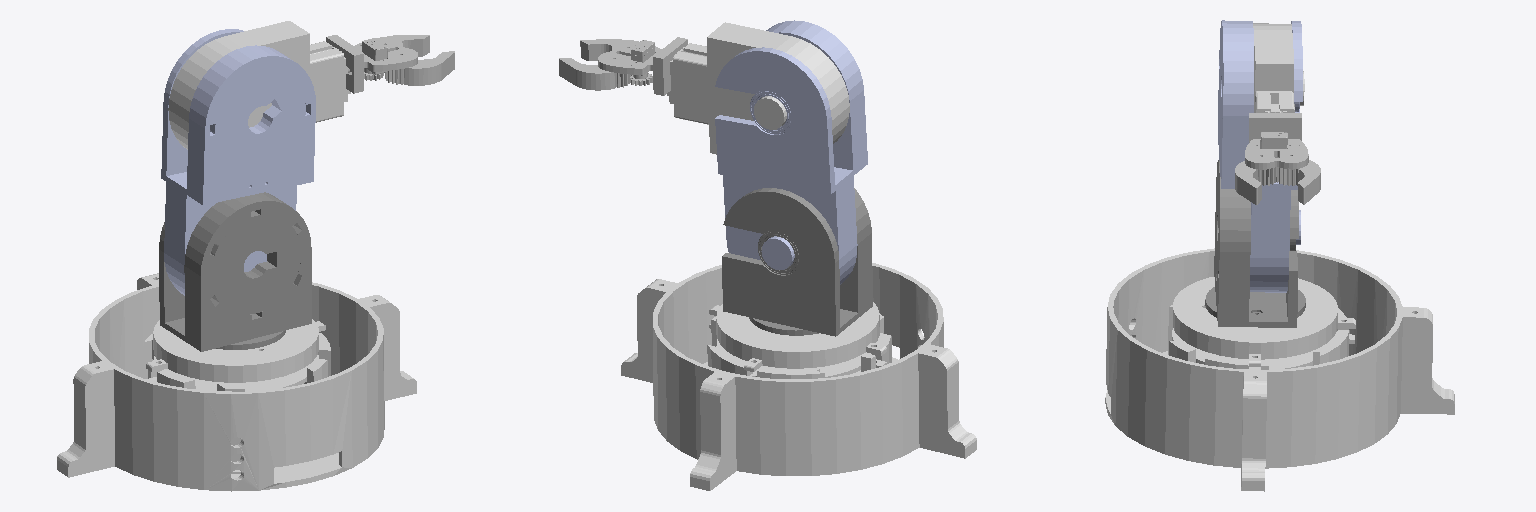
robot.urdf — robot2:
<?xml version='1.0' encoding='utf-8'?>
<robot name="robot2">
  <link name="base_link">
    <inertial>
      <origin xyz="-0.0322183375016077 -0.98862531183593 0.0594360583194767" rpy="0 0 0" />
      <mass value="1.07274260062099" />
      <inertia ixx="0.00553256488180712" ixy="3.83547631528998E-05" ixz="8.25731536531113E-06" iyy="0.0068990560243015" iyz="4.5707460594202E-05" izz="0.0111026624784099" />
    </inertial>
    <visual>
      <origin xyz="0 0 0" rpy="0 0 0" />
      <geometry>
        <mesh filename="package://robot2/meshes/base_link.STL" />
      </geometry>
      <material name="">
        <color rgba="0.894117647058823 0.894117647058823 0.894117647058823 1" />
      </material>
    </visual>
    <collision name="base_collision_prueba">
      <origin xyz="-0.032 -0.980 0.060" rpy="0 0 0" />
      <geometry>
        <box size="0.08 0.08 0.04" />
      </geometry>
    </collision>
  </link>
  <link name="1_Link">
    <inertial>
      <origin xyz="-0.000667281126849557 -0.00719445025829268 0.0591226768658543" rpy="0 0 0" />
      <mass value="0.387314744620051" />
      <inertia ixx="0.000601133228403725" ixy="3.63272048995032E-06" ixz="7.54613931793443E-06" iyy="0.000802719870296399" iyz="-1.56731747393298E-05" izz="0.000526878986685913" />
    </inertial>
    <visual>
      <origin xyz="0 0 0" rpy="0 0 0" />
      <geometry>
        <mesh filename="package://robot2/meshes/1_Link.STL" />
      </geometry>
      <material name="">
        <color rgba="0.627450980392157 0.627450980392157 0.627450980392157 1" />
      </material>
    </visual>
    <collision name="link1_collision_prueba">
      <origin xyz="0 0 0.045" rpy="0 0 0" />
      <geometry>
        <box size="0.035 0.035 0.035" />
      </geometry>
    </collision>
  </link>
  <joint name="joint_1" type="revolute">
    <origin xyz="-0.0327037847686663 -0.997528688156305 0.103606170155612" rpy="-0.0206714410130467 0.00207951340246256 -0.0021609795475576" />
    <parent link="base_link" />
    <child link="1_Link" />
    <axis xyz="0 0 1" />
    <limit lower="-3.141592653589793" upper="3.141592653589793" effort="10.0" velocity="1.0" />
  </joint>
  <link name="2_Link">
    <inertial>
      <origin xyz="0.0745958066334341 0.0133639832618666 0.00318731617443128" rpy="0 0 0" />
      <mass value="0.584726831024462" />
      <inertia ixx="0.000786949906093475" ixy="1.27945787781936E-05" ixz="1.89713370530281E-06" iyy="0.00135753815336034" iyz="3.25256866578678E-06" izz="0.000908285797238898" />
    </inertial>
    <visual>
      <origin xyz="0 0 0" rpy="0 0 0" />
      <geometry>
        <mesh filename="package://robot2/meshes/2_Link.STL" />
      </geometry>
      <material name="">
        <color rgba="0.792156862745098 0.819607843137255 0.933333333333333 1" />
      </material>
    </visual>
    <collision name="link2_collision_prueba">
      <origin xyz="0.065 0.013 0.004" rpy="0 0 0" />
      <geometry>
        <box size="0.04 0.03 0.03" />
      </geometry>
    </collision>
  </link>
  <joint name="joint_2" type="revolute">
    <origin xyz="-0.000493066921437857 0.0156172178250403 0.0824999999999999" rpy="-1.46838853558716 -1.55002056607282 -1.67106463249753" />
    <parent link="1_Link" />
    <child link="2_Link" />
    <axis xyz="0.0205940083975399 0.999354388128605 0.0294396628075614" />
    <limit lower="-1.5707963267948966" upper="1.5707963267948966" effort="10.0" velocity="1.0" />
  </joint>
  <link name="3_Link">
    <inertial>
      <origin xyz="-0.00271912038517219 0.000532961507388852 -0.0312511977067437" rpy="0 0 0" />
      <mass value="0.31315904158181" />
      <inertia ixx="0.000734592294620399" ixy="5.75038039014249E-06" ixz="-1.07783585495597E-05" iyy="0.000474844045702747" iyz="5.1034842522546E-06" izz="0.000320743352058617" />
    </inertial>
    <visual>
      <origin xyz="0 0 0" rpy="0 0 0" />
      <geometry>
        <mesh filename="package://robot2/meshes/3_Link.STL" />
      </geometry>
      <material name="">
        <color rgba="0.894117647058823 0.894117647058823 0.894117647058823 1" />
      </material>
    </visual>
    <collision name="link3_collision_prueba">
      <origin xyz="-0.002 0 -0.030" rpy="0 0 0" />
      <geometry>
        <box size="0.025 0.035 0.040" />
      </geometry>
    </collision>
  </link>
  <joint name="joint_3" type="revolute">
    <origin xyz="0.132335357923373 -0.00290180990379141 0.00593148738303115" rpy="3.14159265358979 0 -1.57079632679489" />
    <parent link="2_Link" />
    <child link="3_Link" />
    <axis xyz="0.999354388128605 0.0205940083975427 0.0294396628075617" />
    <limit lower="-3.2288591161895095" upper="0.20" effort="10.0" velocity="1.0" />
  </joint>
  <link name="4_Link">
    <inertial>
      <origin xyz="0.00421078509333189 -0.00283133522060974 -0.0343272190577135" rpy="0 0 0" />
      <mass value="0.0680040126050669" />
      <inertia ixx="2.80542295336991E-05" ixy="5.12165349349663E-08" ixz="3.09824065869143E-07" iyy="2.21722694184254E-05" iyz="-3.23876834985772E-07" izz="1.06794281188431E-05" />
    </inertial>
    <visual>
      <origin xyz="0 0 0" rpy="0 0 0" />
      <geometry>
        <mesh filename="package://robot2/meshes/4_Link.STL" />
      </geometry>
      <material name="">
        <color rgba="0.8 0.8 0.8 1" />
      </material>
    </visual>
    <collision name="link4_collision_prueba">
      <origin xyz="0 -0.004 -0.040" rpy="0 0 0" />
      <geometry>
        <box size="0.020 0.025 0.030" />
      </geometry>
    </collision>
  </link>
  <joint name="joint_4" type="revolute">
    <origin xyz="-0.0048443 -0.0068958 -0.11533" rpy="0 0 1.5708" />
    <parent link="3_Link" />
    <child link="4_Link" />
    <axis xyz="0 0 1" />
    <limit lower="-2.6179938779914944" upper="1.5707963267948966" effort="10.0" velocity="1.0" />
  </joint>
  <link name="world" />
  <joint name="world_to_base" type="fixed">
    <parent link="world" />
    <child link="base_link" />
    <origin xyz="0 0 0" rpy="0 0 0" />
  </joint>
  <ros2_control name="GazeboSimSystem" type="system">
    <hardware>
      <plugin>gz_ros2_control/GazeboSimSystem</plugin>
    </hardware>
    <joint name="joint_1">
      <command_interface name="position" />
      <state_interface name="position">
        <param name="initial_value">0</param>
      </state_interface>
      <state_interface name="velocity" />
    </joint>
    <joint name="joint_2">
      <command_interface name="position" />
      <state_interface name="position">
        <param name="initial_value">0</param>
      </state_interface>
      <state_interface name="velocity" />
    </joint>
    <joint name="joint_3">
      <command_interface name="position" />
      <state_interface name="position">
        <param name="initial_value">-3.141592653589793</param>
      </state_interface>
      <state_interface name="velocity" />
    </joint>
    <joint name="joint_4">
      <command_interface name="position" />
      <state_interface name="position">
        <param name="initial_value">0</param>
      </state_interface>
      <state_interface name="velocity" />
    </joint>
  </ros2_control>
  <gazebo>
    <plugin filename="gz_ros2_control-system" name="gz_ros2_control::GazeboSimROS2ControlPlugin">
      <parameters>/home/jandr/robot2_ws/install/robot2/share/robot2/config/controllers.yaml</parameters>
    </plugin>
  </gazebo>
</robot>

--- Facts derived from the render (not from the file) ---
3 views of the same robot in one strip: view 1: azimuth 30°, elevation 25°; view 2: azimuth 150°, elevation 25°; view 3: azimuth 270°, elevation 25° (orthographic).
Model robot2 with 6 links and 5 joints (4 revolute, 1 fixed), rooted at world, posed every joint at zero.
Visible links, largest first — view 1: base_link, 2_Link, 1_Link, 3_Link, 4_Link; view 2: base_link, 2_Link, 1_Link, 3_Link, 4_Link; view 3: base_link, 2_Link, 1_Link, 4_Link, 3_Link.
Link boxes in pixels (left/top/right/bottom): base_link: left=57, top=273, right=416, bottom=491; 2_Link: left=161, top=29, right=315, bottom=295; 1_Link: left=159, top=192, right=311, bottom=351; 3_Link: left=168, top=21, right=350, bottom=149; 4_Link: left=326, top=35, right=454, bottom=93; base_link: left=621, top=263, right=976, bottom=490; 2_Link: left=715, top=20, right=867, bottom=284; 1_Link: left=722, top=188, right=872, bottom=336; 3_Link: left=667, top=22, right=849, bottom=154; 4_Link: left=559, top=37, right=687, bottom=95; base_link: left=1105, top=248, right=1454, bottom=491; 2_Link: left=1218, top=20, right=1302, bottom=292; 1_Link: left=1205, top=160, right=1305, bottom=327; 4_Link: left=1235, top=113, right=1320, bottom=204; 3_Link: left=1253, top=23, right=1304, bottom=112.
Size in the robot's own frame: 0.3845 by 0.2951 by 0.3604 metres.
Meshes: 5 distinct files referenced, 5 mesh visuals loaded (5 binary STL).
